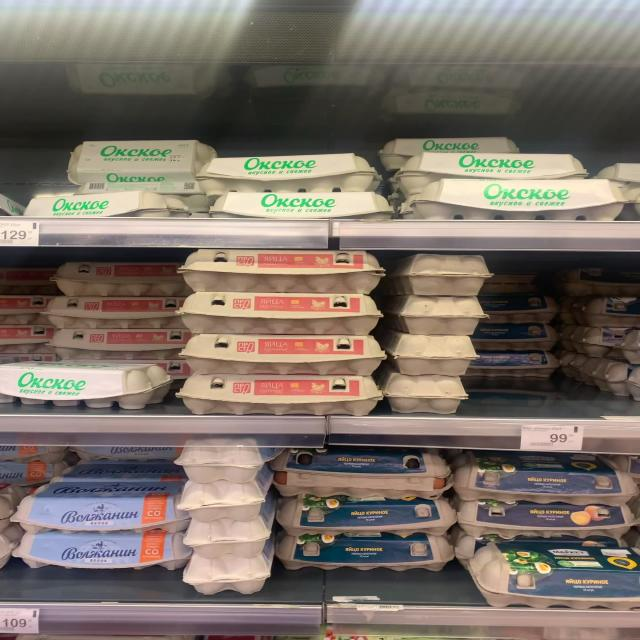egg box: (462, 541, 638, 609), (450, 450, 638, 507), (13, 478, 194, 535), (405, 177, 626, 223), (178, 247, 387, 294), (178, 291, 388, 336), (268, 451, 452, 499), (390, 151, 590, 195), (178, 335, 386, 377), (174, 376, 386, 416), (197, 152, 379, 198), (278, 531, 452, 577), (0, 361, 172, 407), (11, 530, 193, 572), (277, 497, 457, 538), (66, 138, 218, 185), (459, 503, 635, 542), (212, 190, 393, 222), (40, 296, 186, 330), (50, 260, 184, 297), (53, 328, 186, 363), (382, 136, 518, 170), (23, 190, 170, 220), (473, 322, 560, 351), (466, 351, 559, 378), (474, 294, 554, 320)
